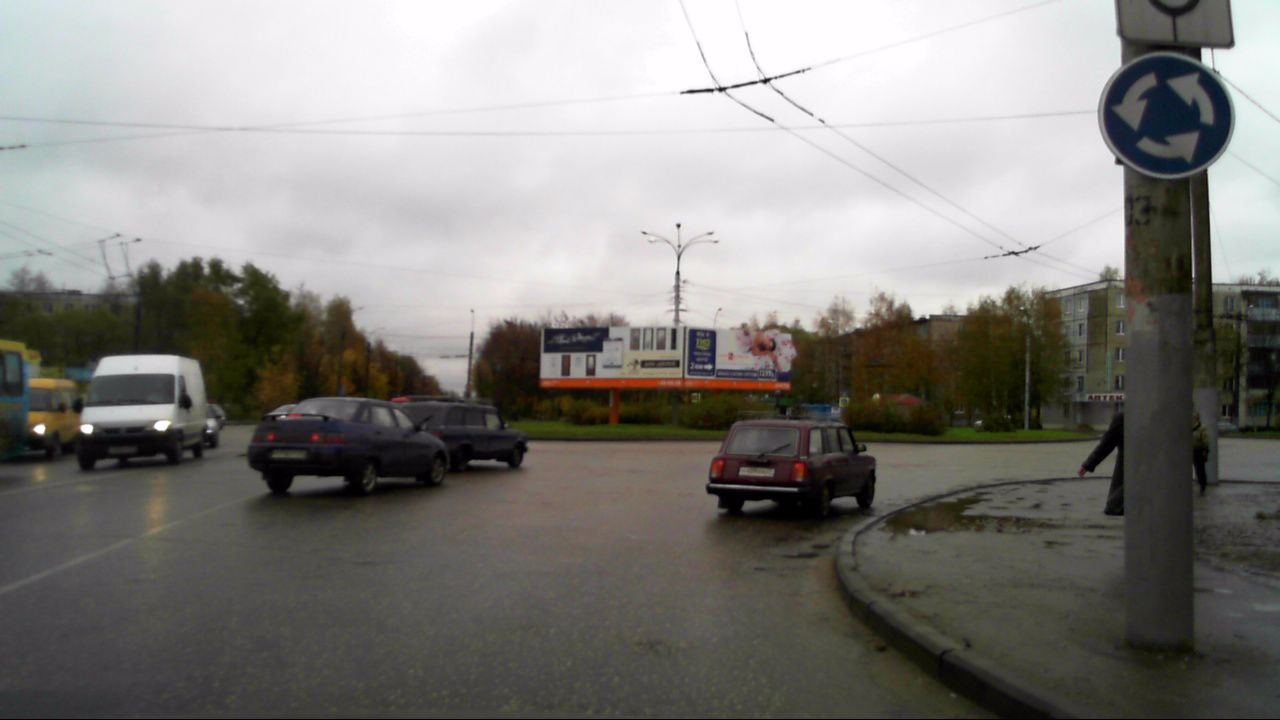Round-About: (1096, 50, 1236, 179)
